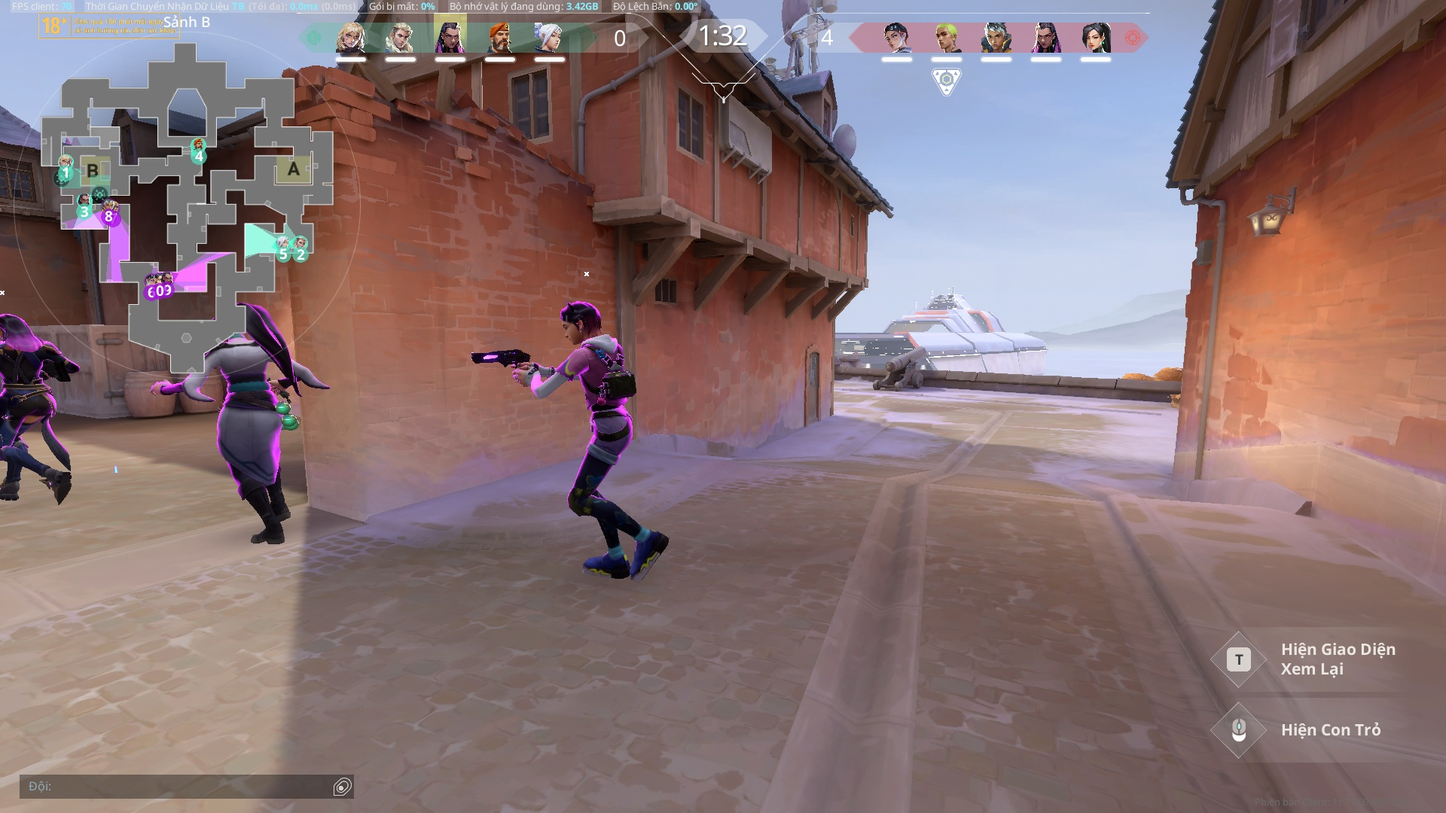body: (212, 337, 284, 415), (572, 342, 636, 416), (0, 333, 56, 413)
head: (218, 302, 267, 347), (560, 300, 611, 341), (0, 307, 33, 340)
